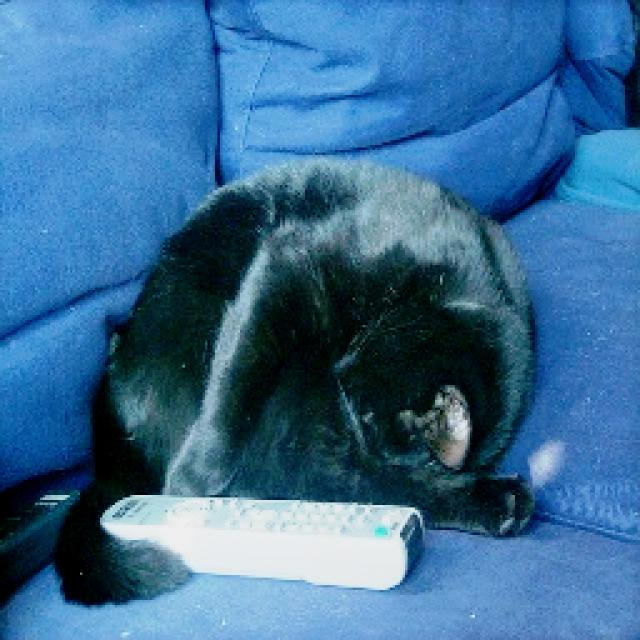cat: (59, 157, 541, 618)
